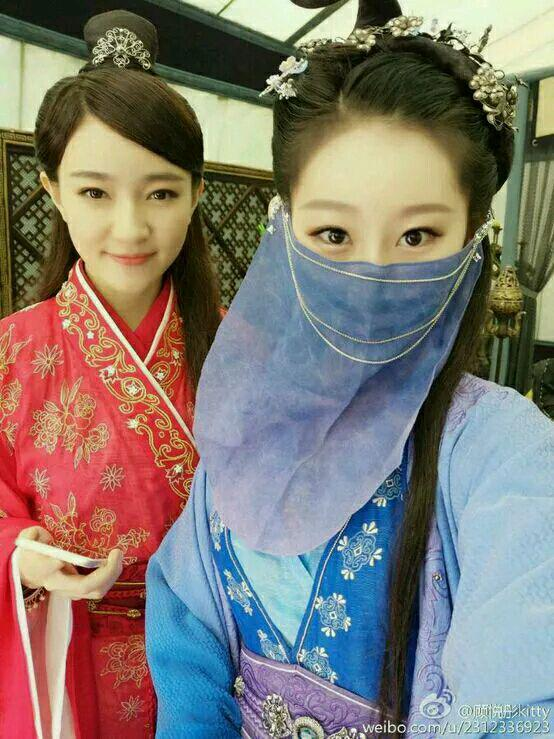NONE: (55, 154, 195, 293)
OK: (298, 195, 467, 364)
